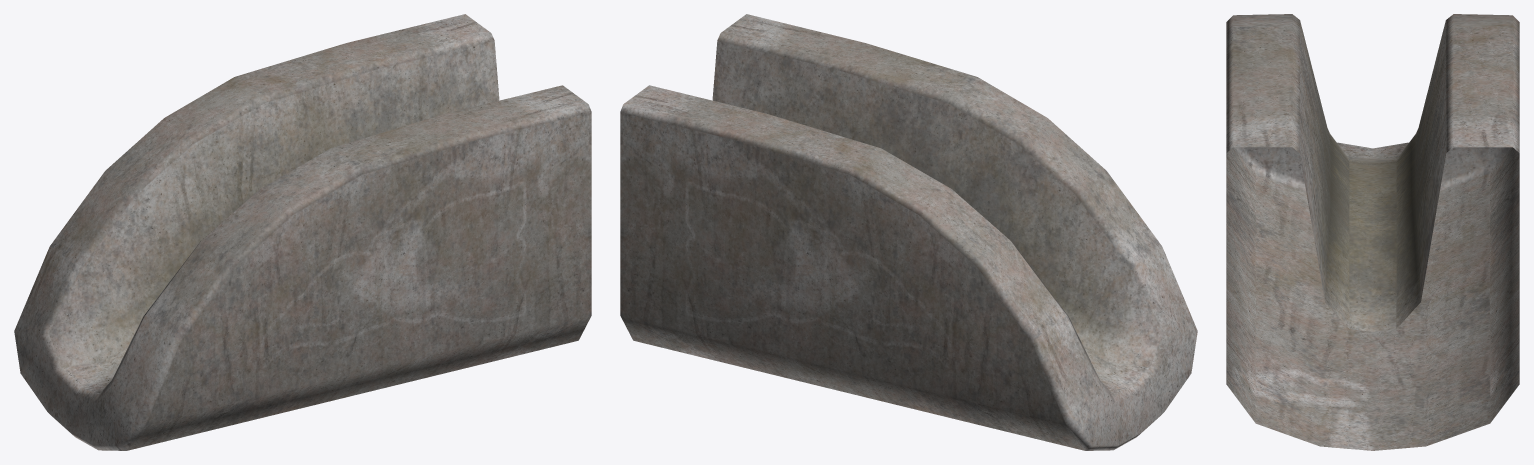
Rendered from SM_StoneStatue01H.fbx.
The picture shows the model from 3 angles, left to right: view 1: azimuth 30°, elevation 25°; view 2: azimuth 150°, elevation 25°; view 3: azimuth 270°, elevation 25°; orthographic projection. The views are drawn at different scales.
Visible parts, largest first — view 1: SM_StoneStatue01H; view 2: SM_StoneStatue01H; view 3: SM_StoneStatue01H.
Boxes of the visible parts, box(x1,y1,x2,y2) form: SM_StoneStatue01H: box(14, 14, 591, 450); SM_StoneStatue01H: box(620, 14, 1197, 450); SM_StoneStatue01H: box(1226, 14, 1519, 450).
Bounding box in the file's own units: 71.44 × 35.06 × 40.02.
1 material, 1 textured.
